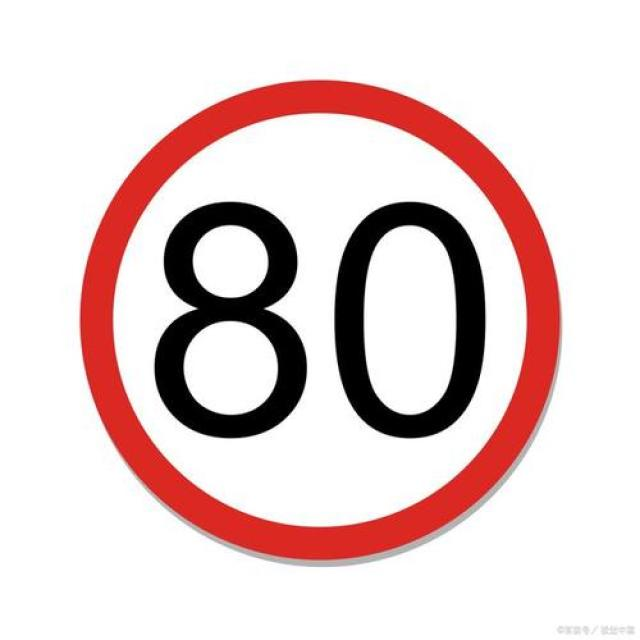speed limit 80: (78, 80, 561, 570)
